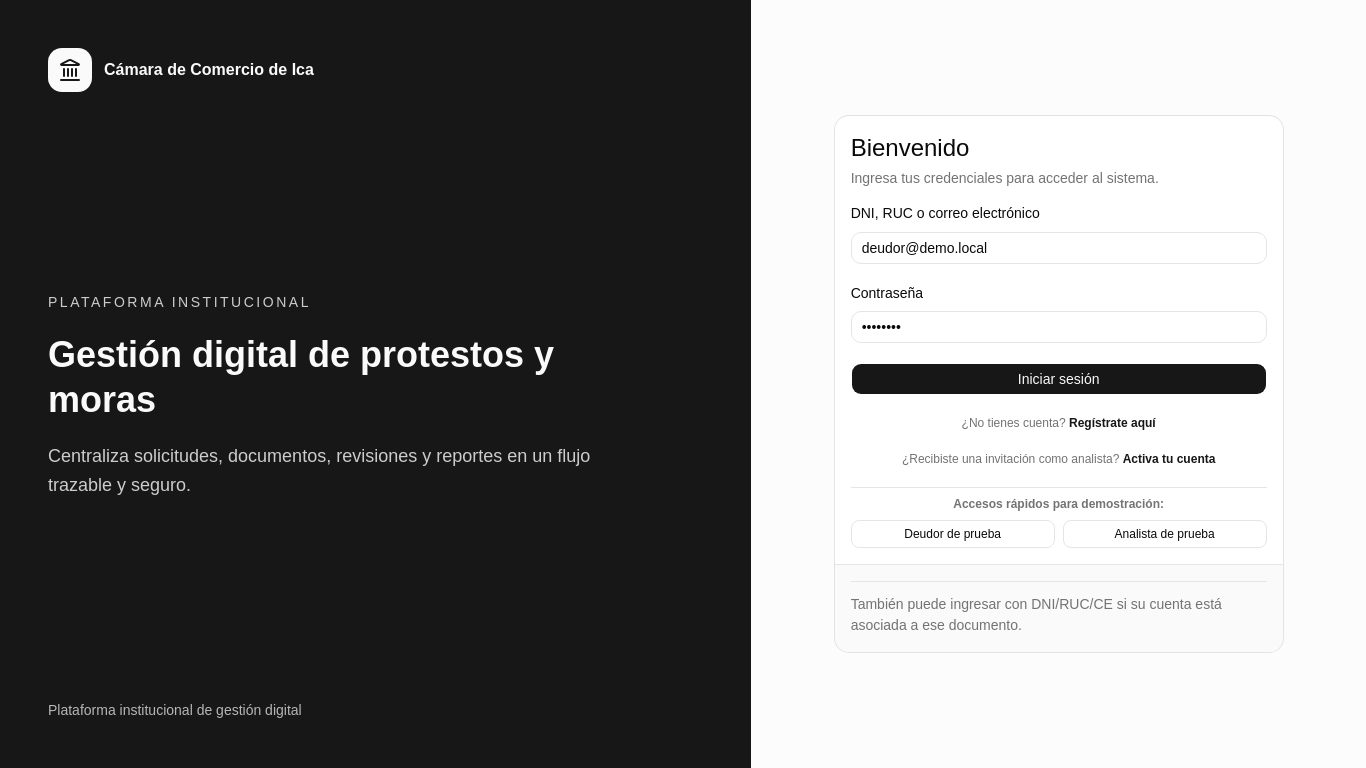
it: login entrypoints › public login rejects ERP roles
The image size is (1366, 768).
Type "usuario@test.local" into the field labelled "DNI, RUC o correo electrónico" at [1059, 248], box [851, 232, 1267, 264]
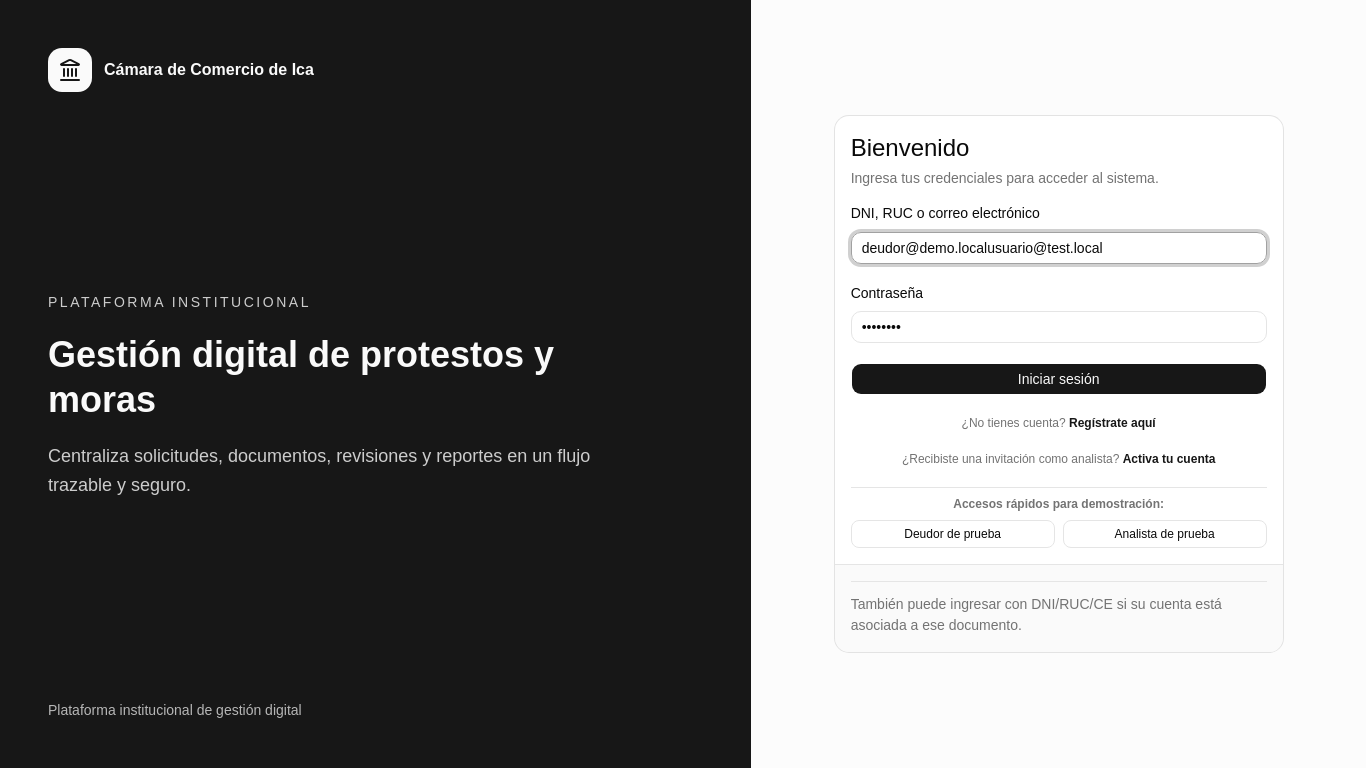
Type "Password1!" into the password field labelled "Contraseña" at [1059, 327], box [851, 311, 1267, 343]
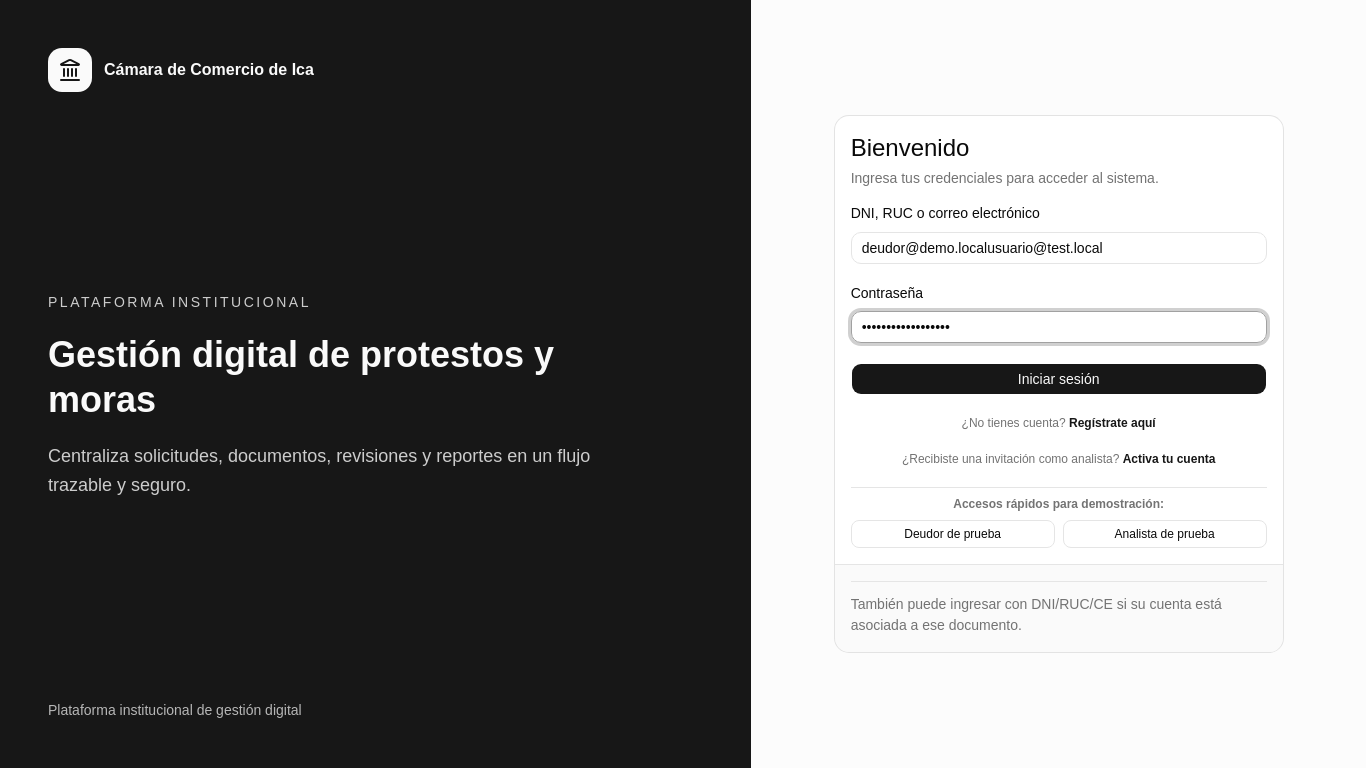
Click the button "Iniciar sesión" at [1059, 379], box [851, 363, 1267, 395]
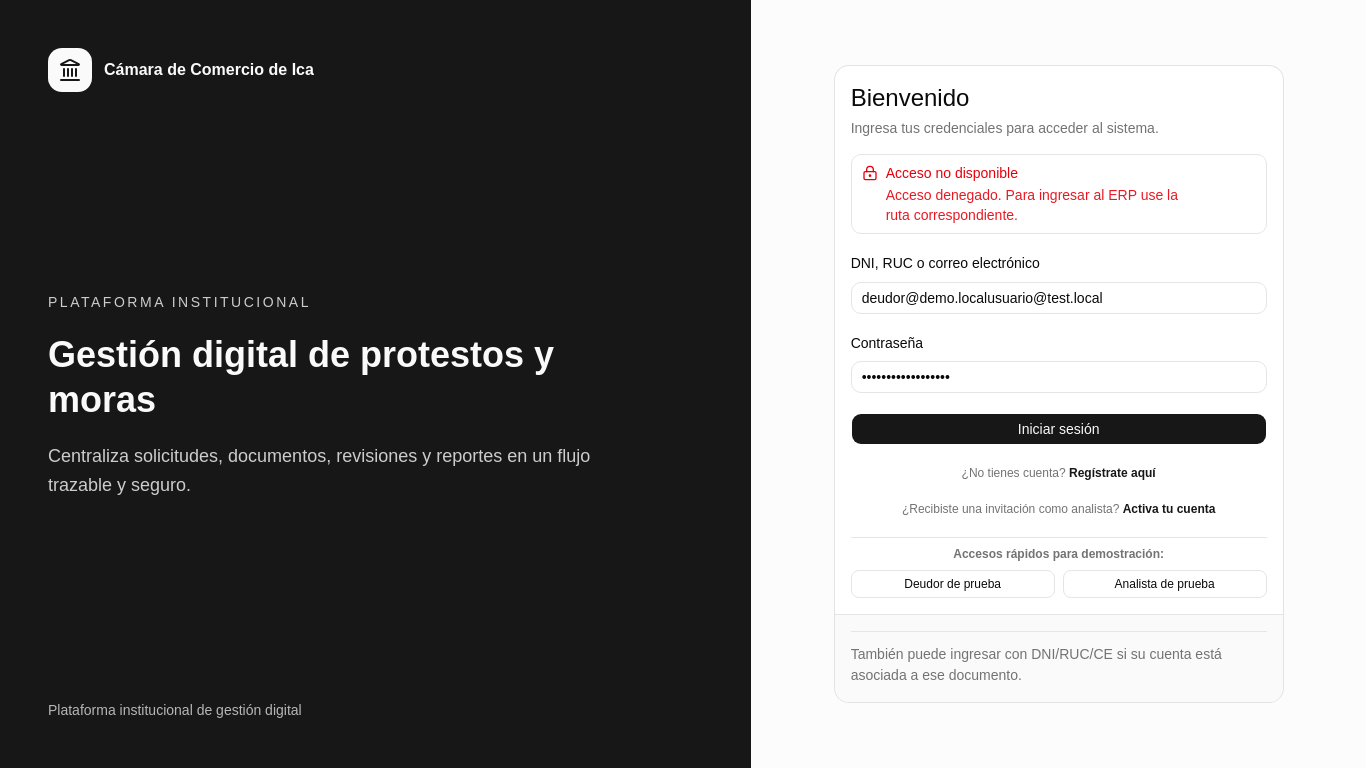
Expected: the text "Para ingresar al ERP" is shown, [886, 187, 1178, 223]
